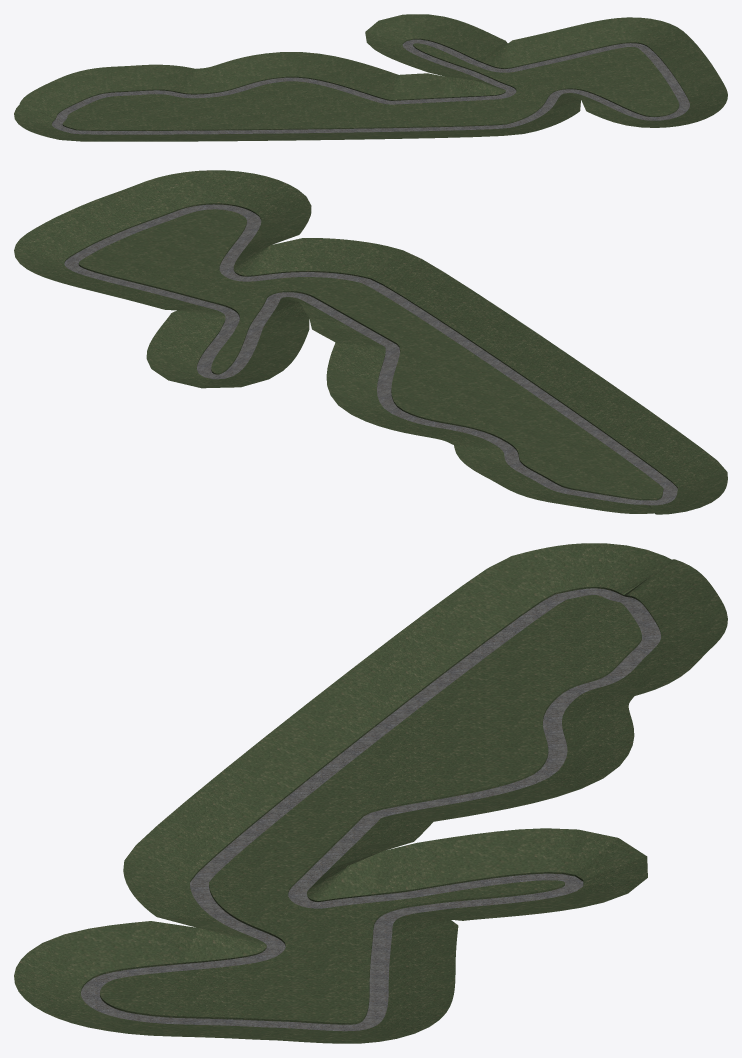
File: racetrack.gltf
The picture shows the model from 3 angles, top to bottom: view 1: azimuth 30°, elevation 25°; view 2: azimuth 150°, elevation 25°; view 3: azimuth 270°, elevation 25°; orthographic projection. The views are drawn at different scales.
Parts seen in each view (by area): view 1: BezierCurve, BezierCurve.002; view 2: BezierCurve, BezierCurve.002; view 3: BezierCurve, BezierCurve.002.
Part boxes in pixels (<box>): BezierCurve: <box>14,14,727,141</box>; BezierCurve.002: <box>52,39,689,134</box>; BezierCurve: <box>14,170,727,514</box>; BezierCurve.002: <box>64,204,677,505</box>; BezierCurve: <box>14,543,727,1043</box>; BezierCurve.002: <box>81,588,660,1031</box>.
Size of the model in its own units: 747 by 16.54 by 444.
2 materials, 2 textured.
